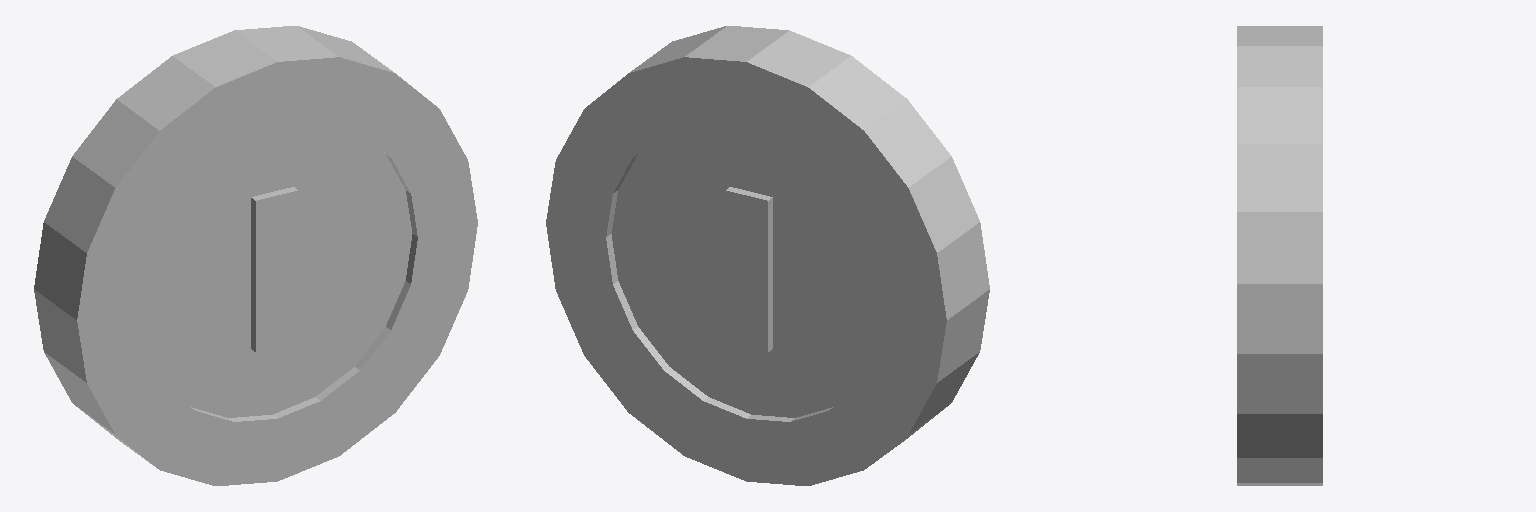
File: Coin.obj
3 views of the same model, side by side, from view 1: azimuth 30°, elevation 25°; view 2: azimuth 150°, elevation 25°; view 3: azimuth 270°, elevation 25° (orthographic).
Visible parts, largest first — view 1: pCylinder2; view 2: pCylinder2; view 3: pCylinder2.
Boxes of the visible parts, x1=… form: pCylinder2: x1=34, y1=26, x2=477, y2=485; pCylinder2: x1=546, y1=26, x2=989, y2=485; pCylinder2: x1=1237, y1=26, x2=1322, y2=485.
Bounding box in the file's own units: 0.43 × 0.43 × 0.0804.